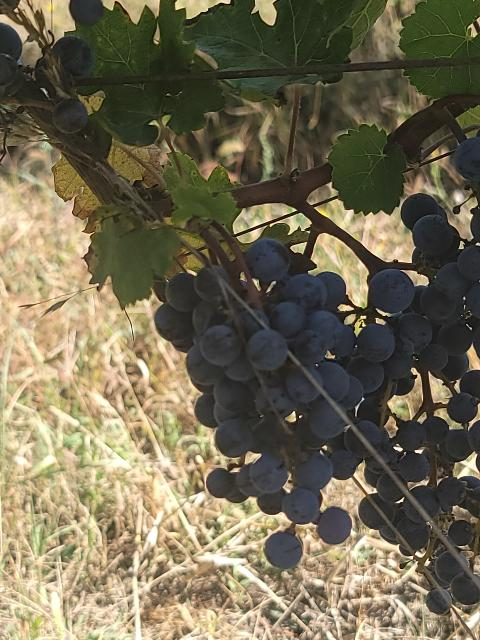grapes: (155, 242, 361, 540), (341, 194, 480, 610)
